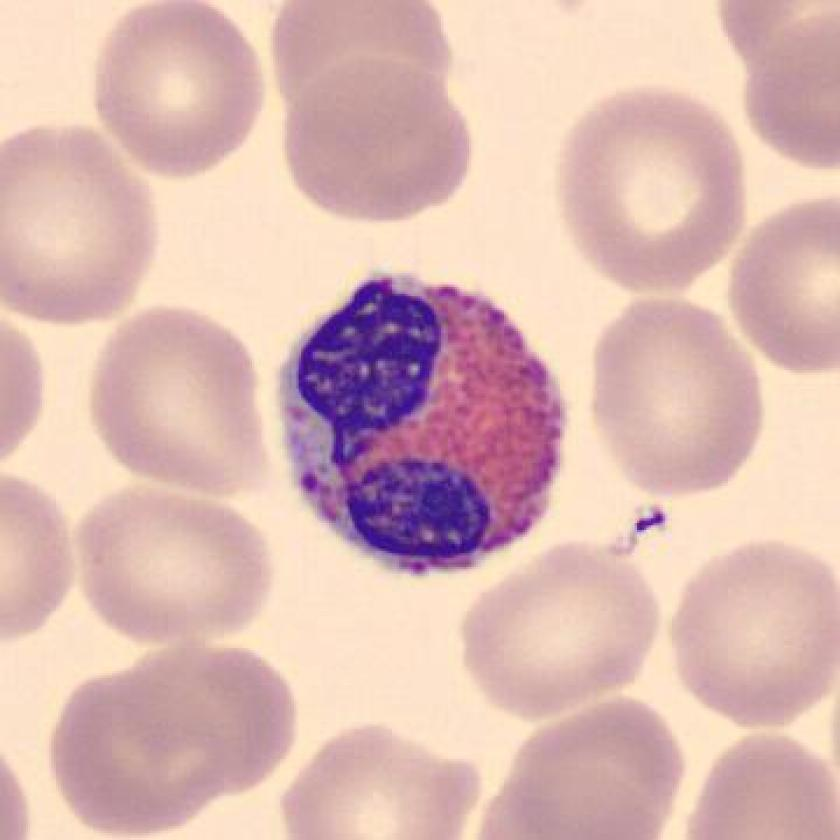eosinophil: (253, 258, 584, 591)
